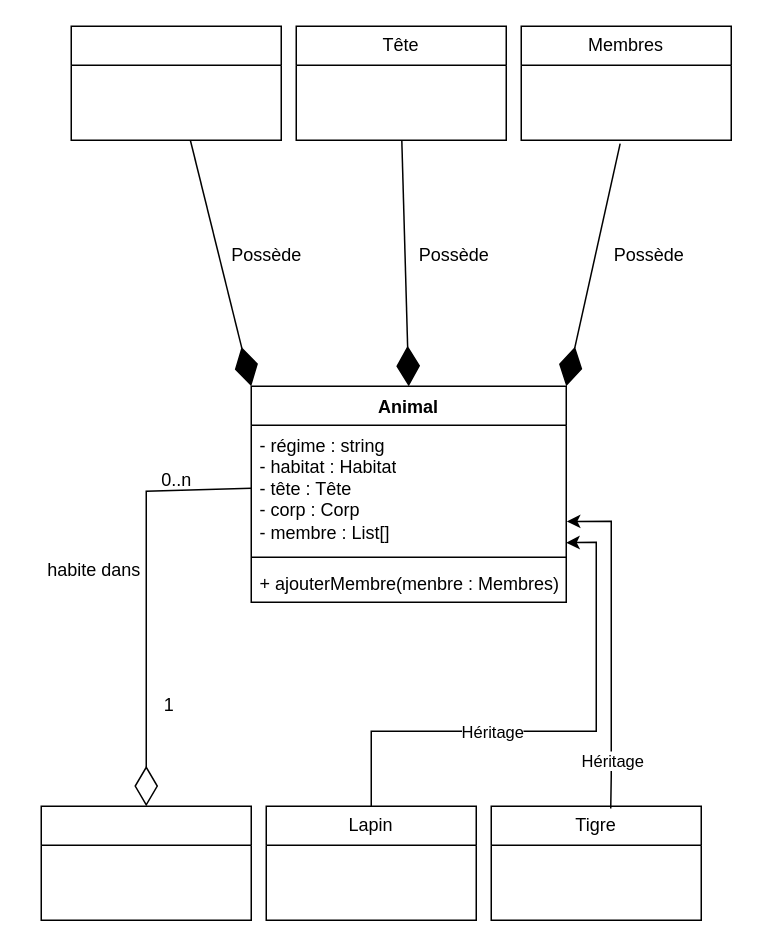
The diagram is 758 pixels wide and 951 high, and some of its shapes have lost their labels. The box of each missing label's shape, as (x1, y1, x2, y2) in pixels:
Corp: (70, 25, 281, 140)
Habitat: (40, 805, 251, 920)
